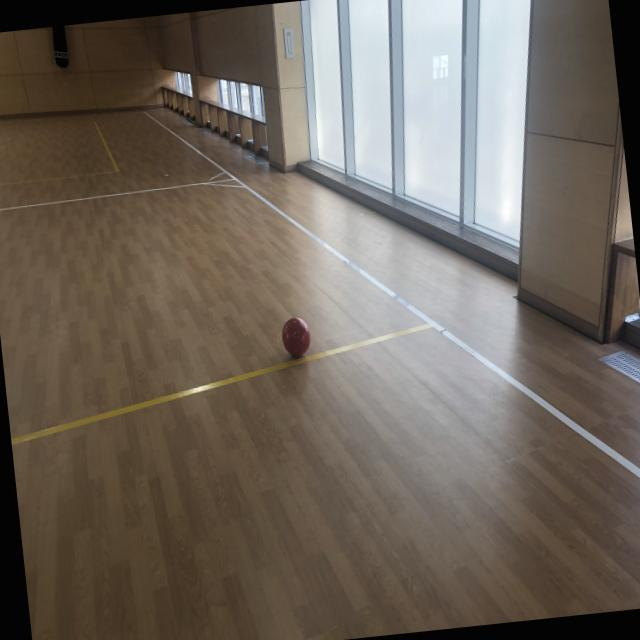red_ball: (280, 314, 312, 359)
